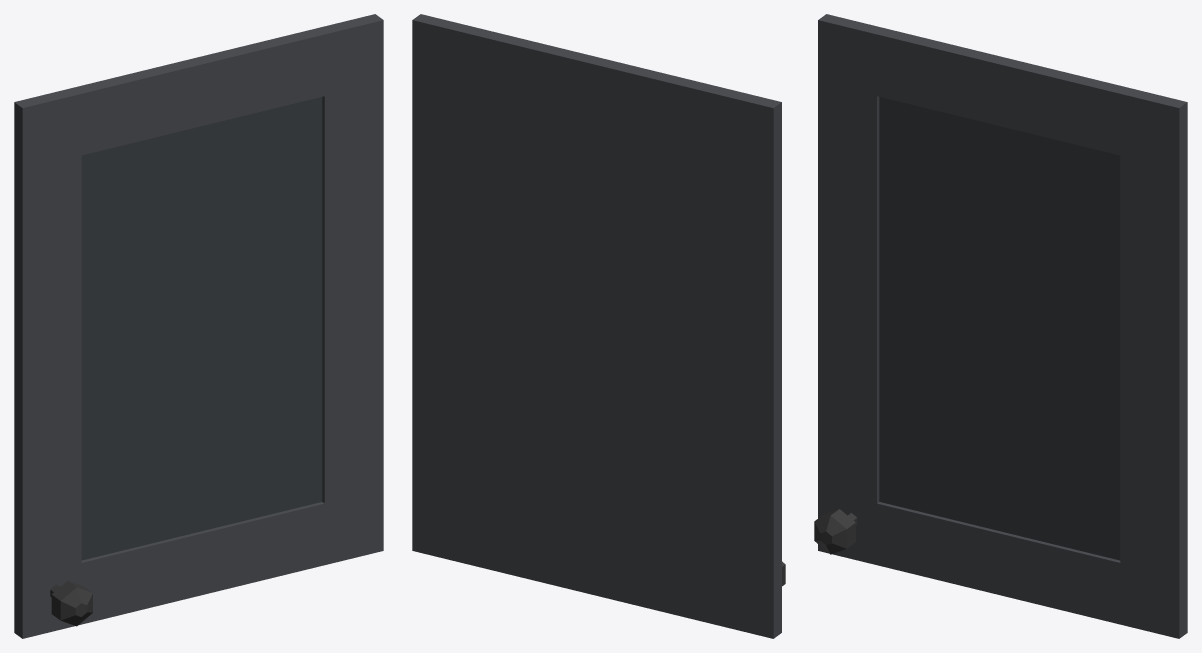
File: Wardrobe7_C2_04.fbx
3 renders of one model, left to right at view 1: azimuth 30°, elevation 25°; view 2: azimuth 150°, elevation 25°; view 3: azimuth 330°, elevation 25°, orthographic.
Parts seen in each view (by area): view 1: Wardrobe7_C2_04; view 2: Wardrobe7_C2_04; view 3: Wardrobe7_C2_04.
Part boxes in pixels (x1,y1,x2,y2): Wardrobe7_C2_04: [14, 14, 383, 638]; Wardrobe7_C2_04: [412, 14, 785, 638]; Wardrobe7_C2_04: [814, 14, 1187, 638].
Bounding box in the file's own units: 50 × 70.23 × 8.1.
